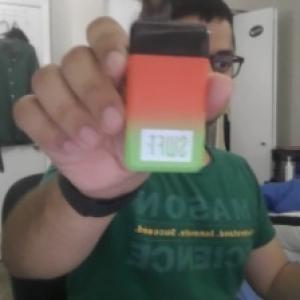Swift-E-Ciggirate: (118, 2, 212, 177)
